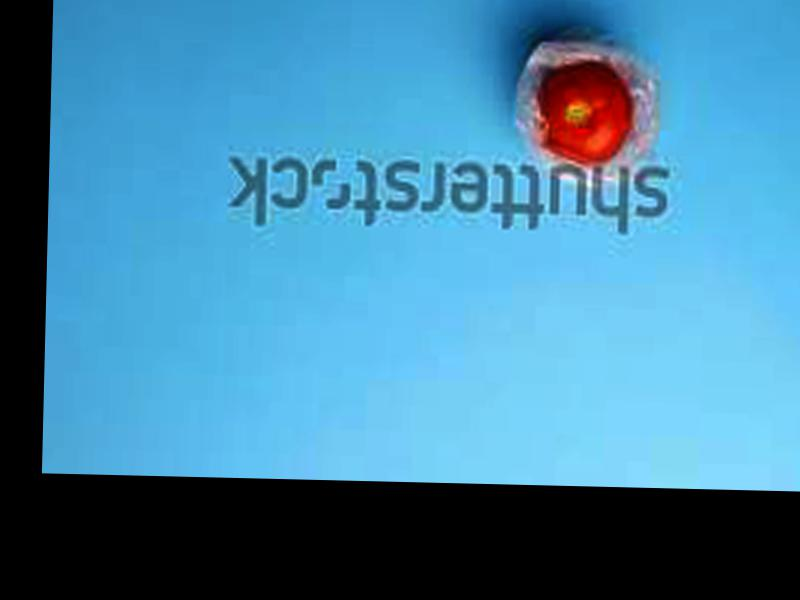Tomato: (535, 63, 630, 164)
